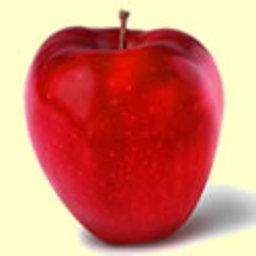apple: (22, 21, 223, 244)
